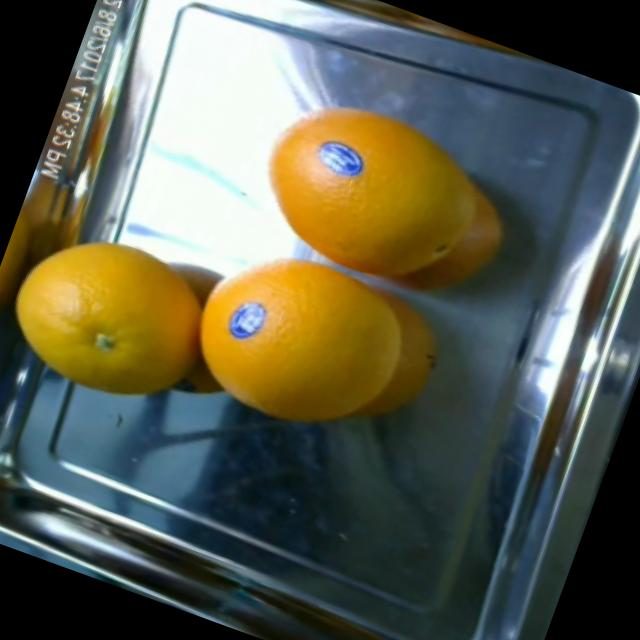Fruit: (300, 128, 378, 194)
